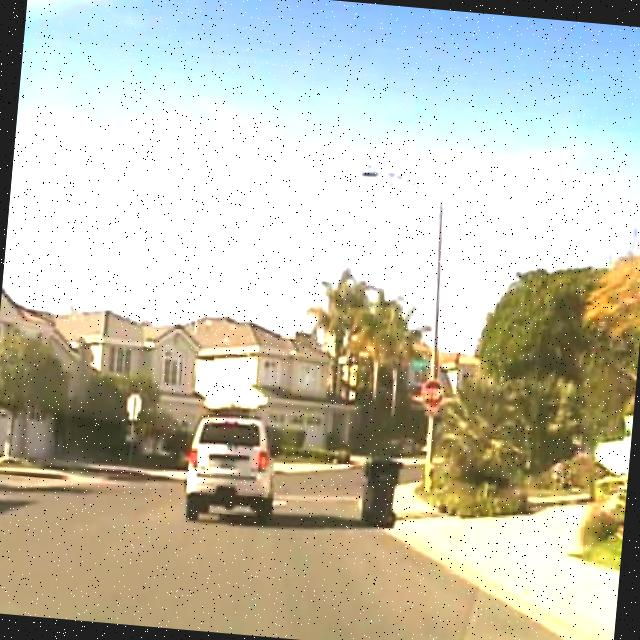Stop: (418, 376, 448, 416)
